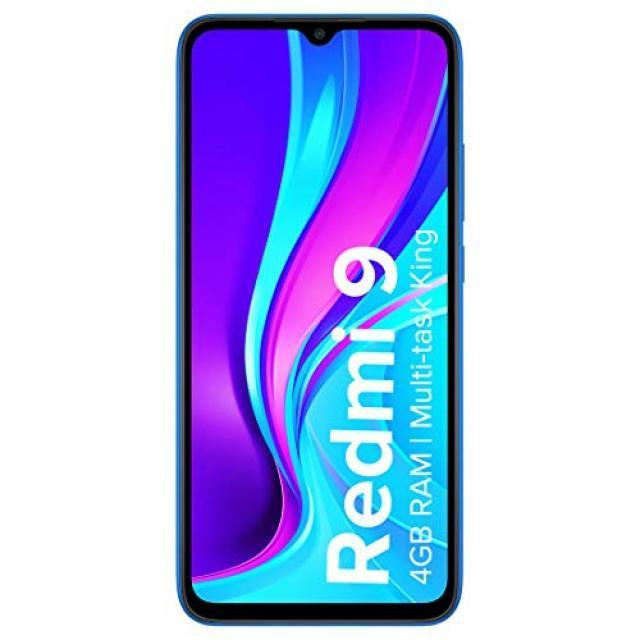Phone: (177, 11, 466, 627)
